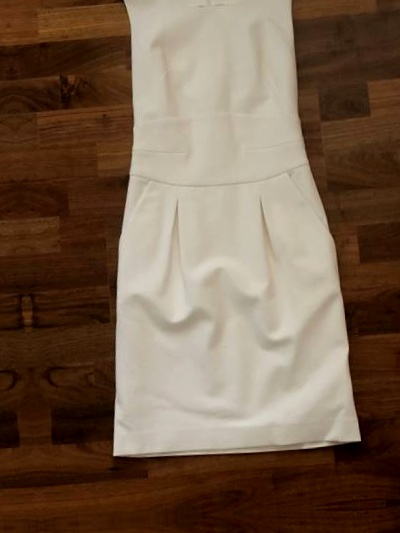Dress: (63, 0, 378, 479)
